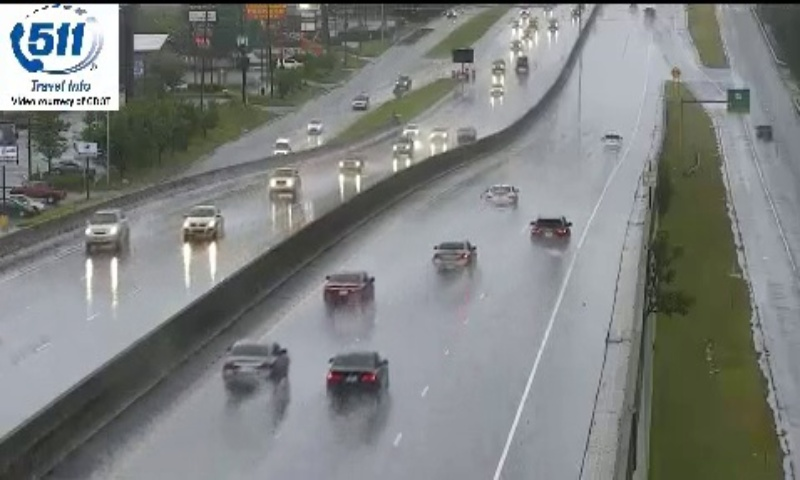car: (222, 340, 289, 384), (326, 352, 388, 394), (324, 271, 374, 307), (432, 240, 476, 272), (530, 217, 571, 245), (485, 184, 517, 209)
